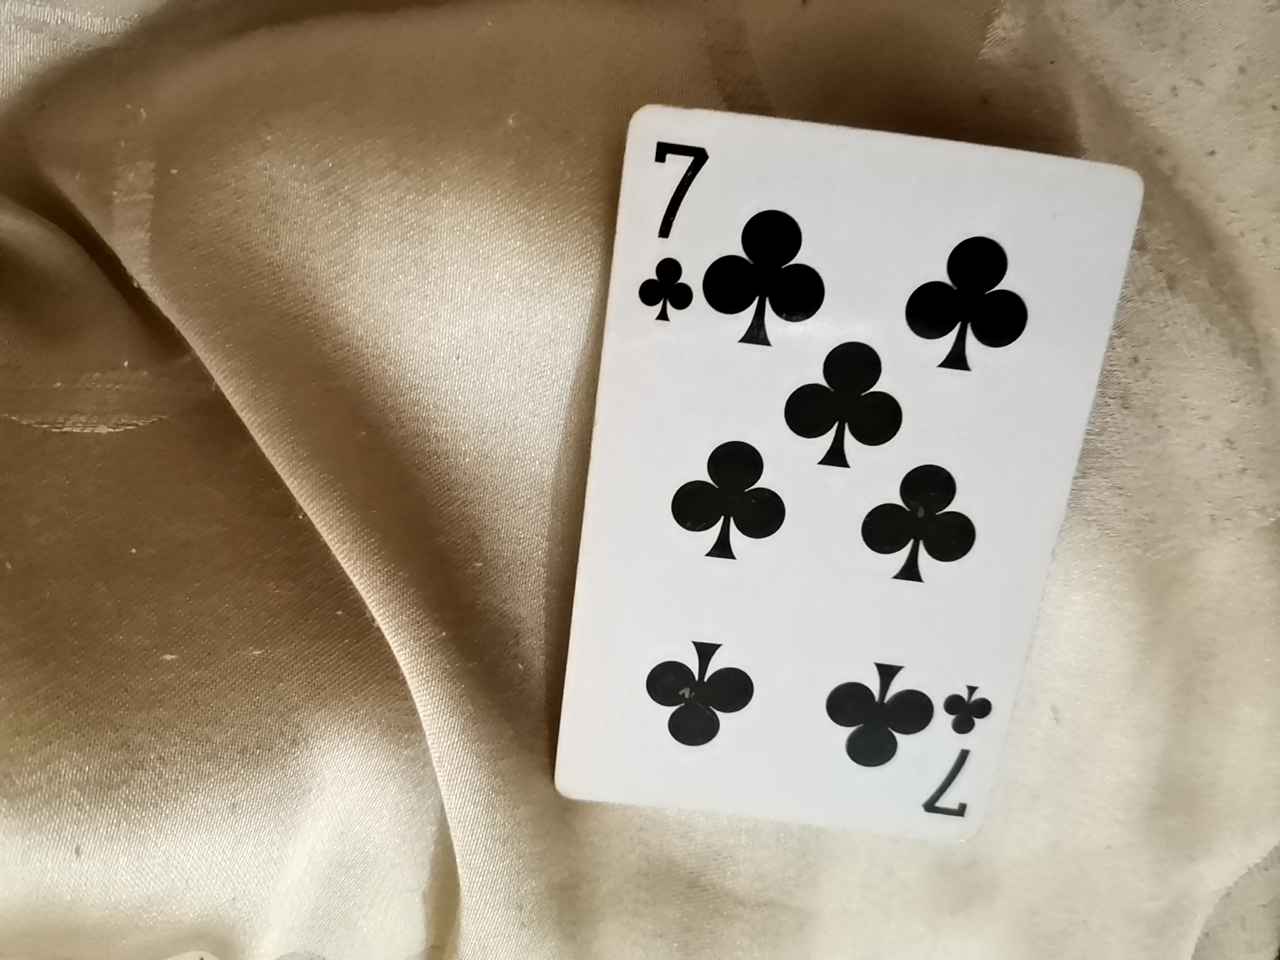mh 7: (509, 81, 1109, 875)
